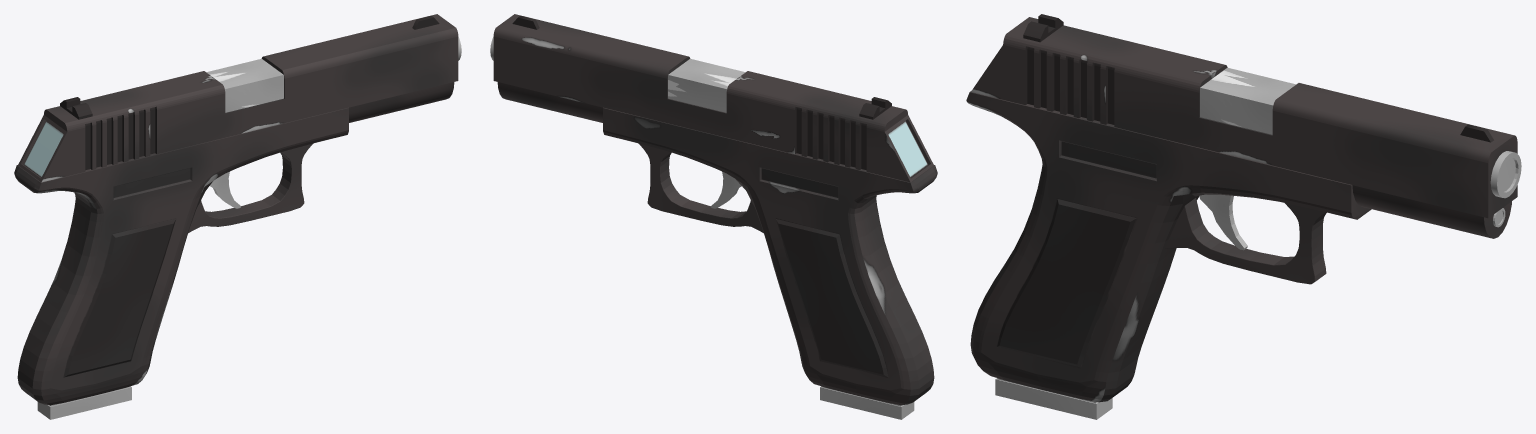
The model's file is Gun_Finished.fbx.
3 views of the same model, side by side, from view 1: azimuth 30°, elevation 25°; view 2: azimuth 150°, elevation 25°; view 3: azimuth 330°, elevation 25° (orthographic). The views are drawn at different scales.
Parts seen in each view (by area): view 1: polySurface44, polySurface31, polySurface41; view 2: polySurface44, polySurface31, polySurface41; view 3: polySurface44, polySurface31, polySurface41.
Boxes of the visible parts, <box> form: polySurface44: <box>14,58,454,405</box>; polySurface31: <box>18,14,461,182</box>; polySurface41: <box>37,386,131,419</box>; polySurface44: <box>497,58,937,405</box>; polySurface31: <box>490,14,933,182</box>; polySurface41: <box>820,386,914,419</box>; polySurface44: <box>966,67,1511,402</box>; polySurface31: <box>971,14,1521,218</box>; polySurface41: <box>995,378,1112,419</box>.
Size of the model in its own units: 7.46 by 5.09 by 0.8198.
